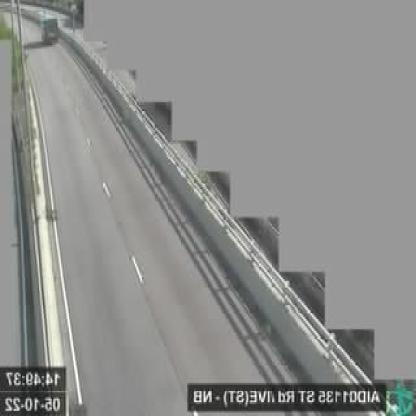Car: (42, 16, 60, 45)
